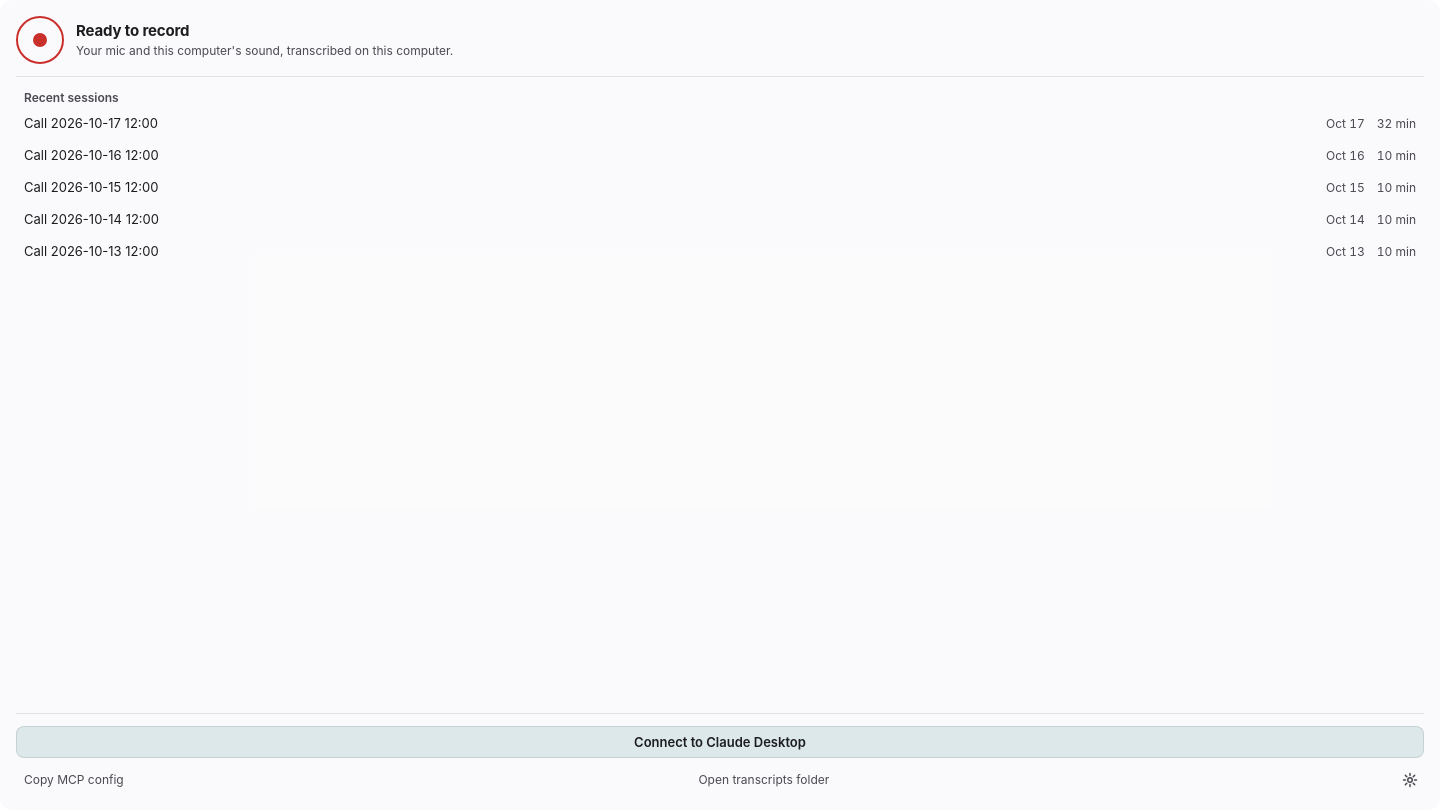
Test: the popover settings › shows the Outlook sign-in under way after Connect Outlook is pressed
Click the button named "Settings": (1410, 780) [1396,766,1424,794]
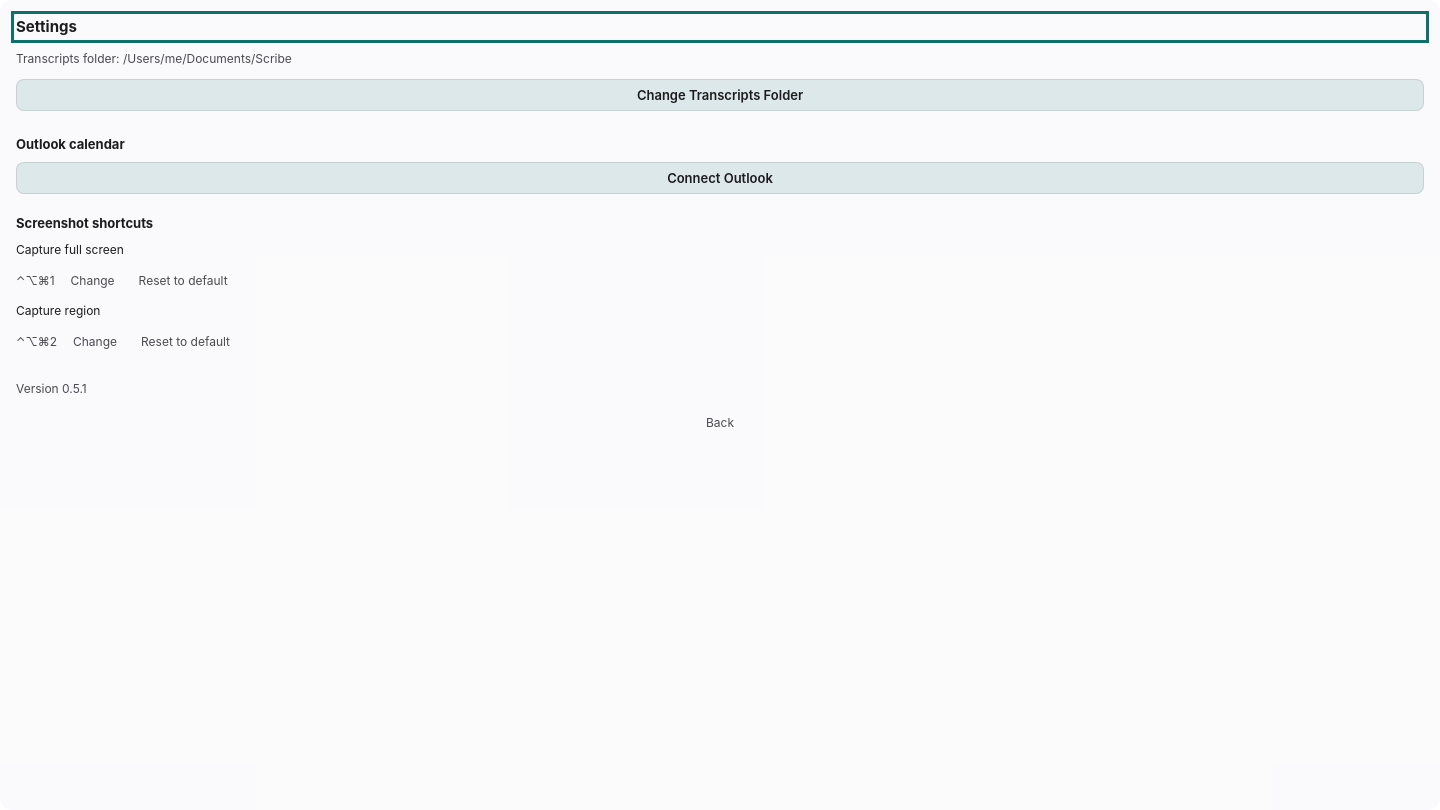
Click the button "Connect Outlook": (720, 178) [16,162,1424,194]
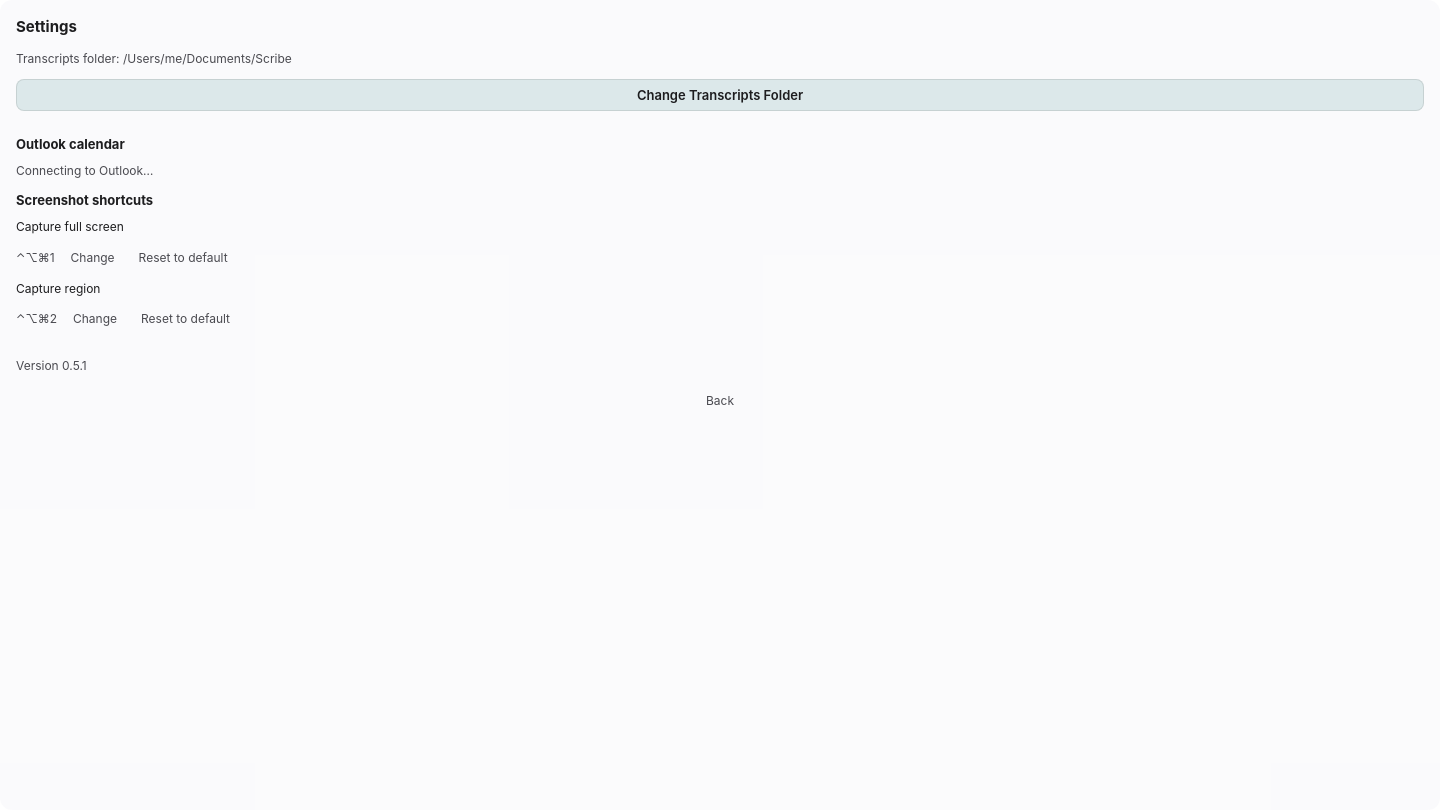
Now the text "Connecting to Outlook…" is shown, box [16,163,154,178]
